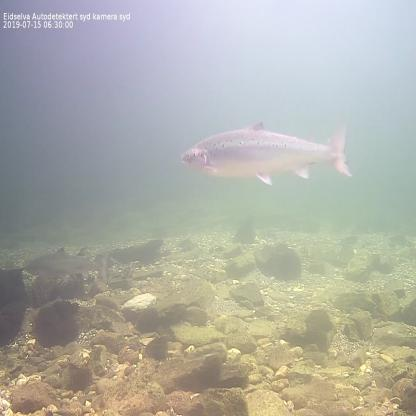salmon: (178, 116, 355, 189), (23, 244, 108, 282)
